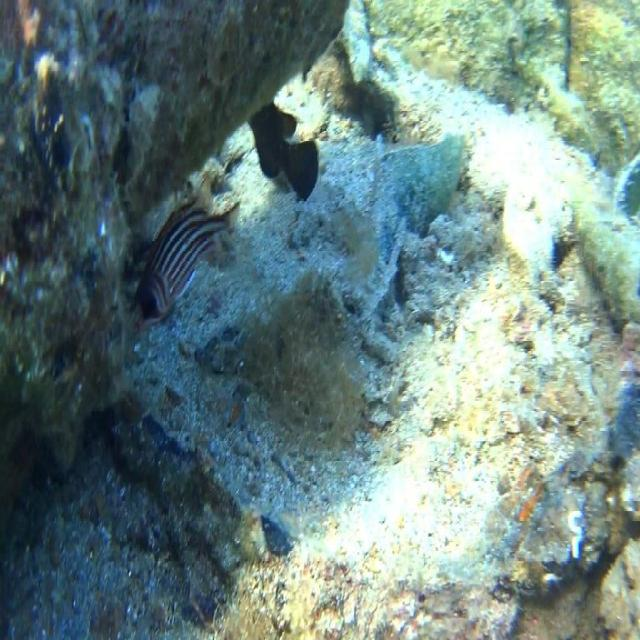Asker Baligi: (129, 192, 240, 334)
